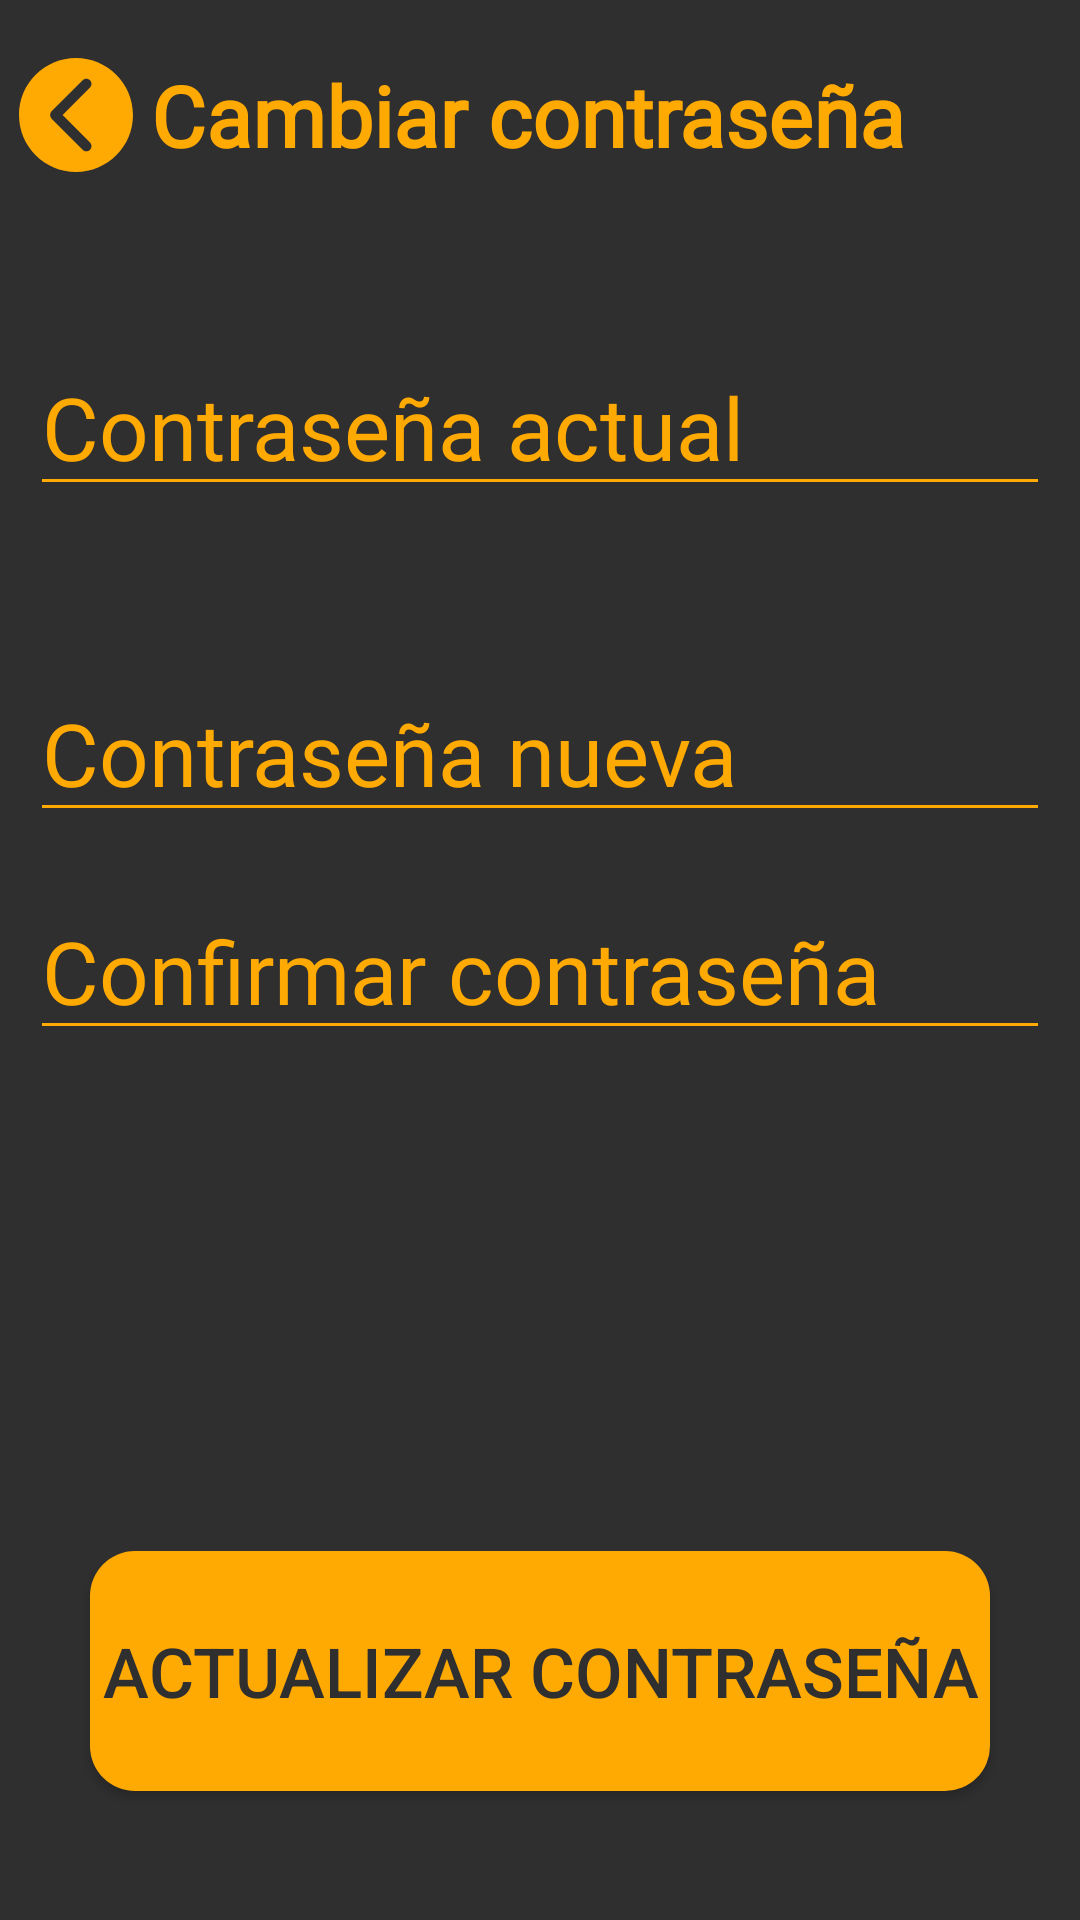

Named icons in this screenshot (1080px×1920px) and their centers, (x,y):
atras: (76,115)
